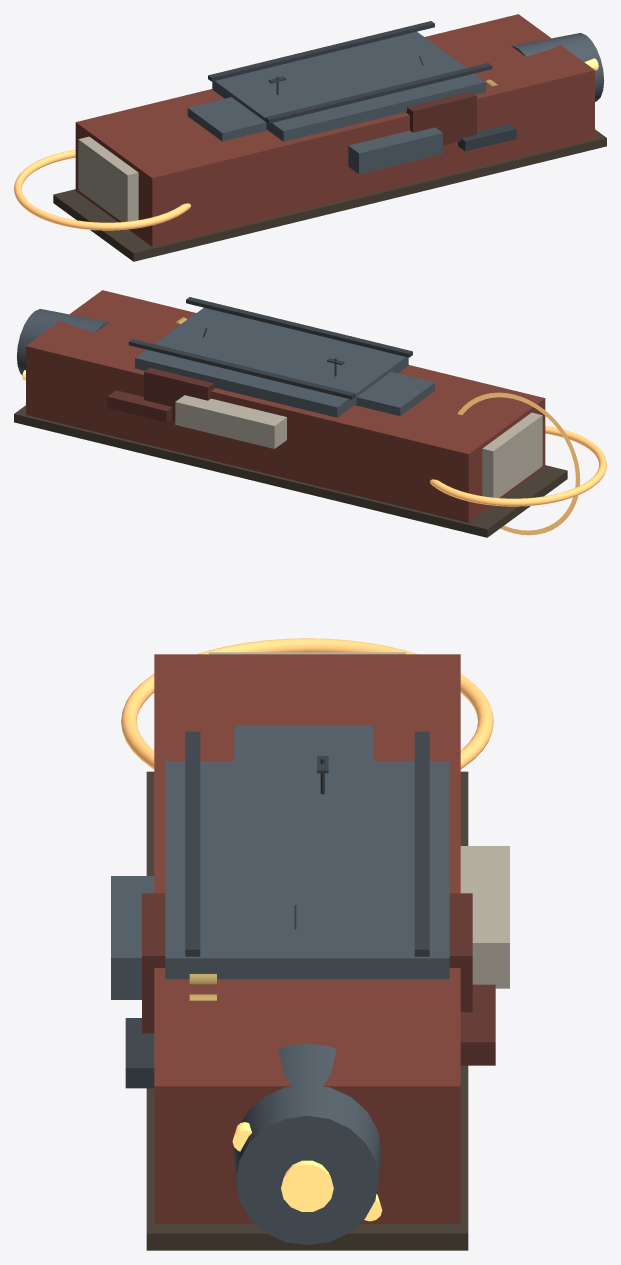
Rendered from freighter_v1.glb.
3 views of the same model, one above another, from view 1: azimuth 30°, elevation 25°; view 2: azimuth 150°, elevation 25°; view 3: azimuth 270°, elevation 25° (orthographic). The views are drawn at different scales.
Parts seen in each view (by area): view 1: freighter_v1; view 2: freighter_v1; view 3: freighter_v1.
Part boxes in pixels (box(x1,y1,x2,y2)): freighter_v1: box(14, 14, 606, 261); freighter_v1: box(14, 290, 606, 537); freighter_v1: box(111, 638, 509, 1250).
Size of the model in its own units: 29.72 by 6.96 by 9.05.
